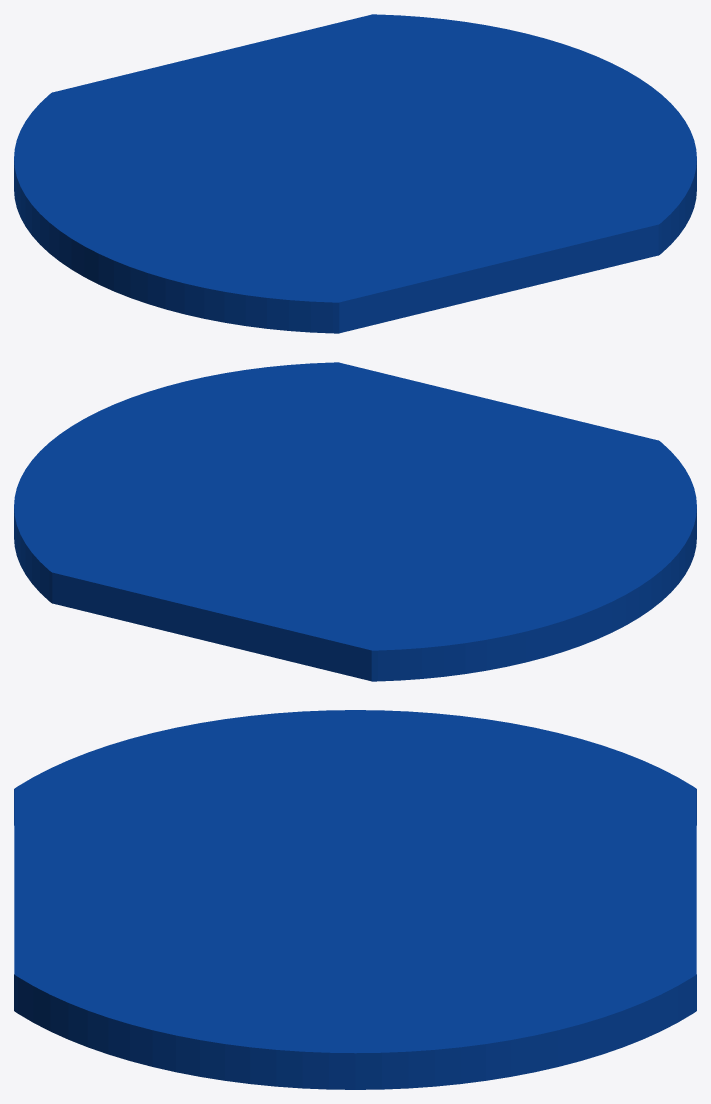
File: circular_chassis.dae
3 views of the same model, one above another, from view 1: azimuth 30°, elevation 25°; view 2: azimuth 150°, elevation 25°; view 3: azimuth 270°, elevation 25° (orthographic). The views are drawn at different scales.
Visible parts, largest first — view 1: circular_chassis; view 2: circular_chassis; view 3: circular_chassis.
Boxes of the visible parts, left/top/right/bottom form: circular_chassis: left=14, top=14, right=696, bottom=333; circular_chassis: left=14, top=362, right=696, bottom=681; circular_chassis: left=14, top=710, right=696, bottom=1089.
Size of the model in its own units: 0.1 by 0.0841 by 0.005.
